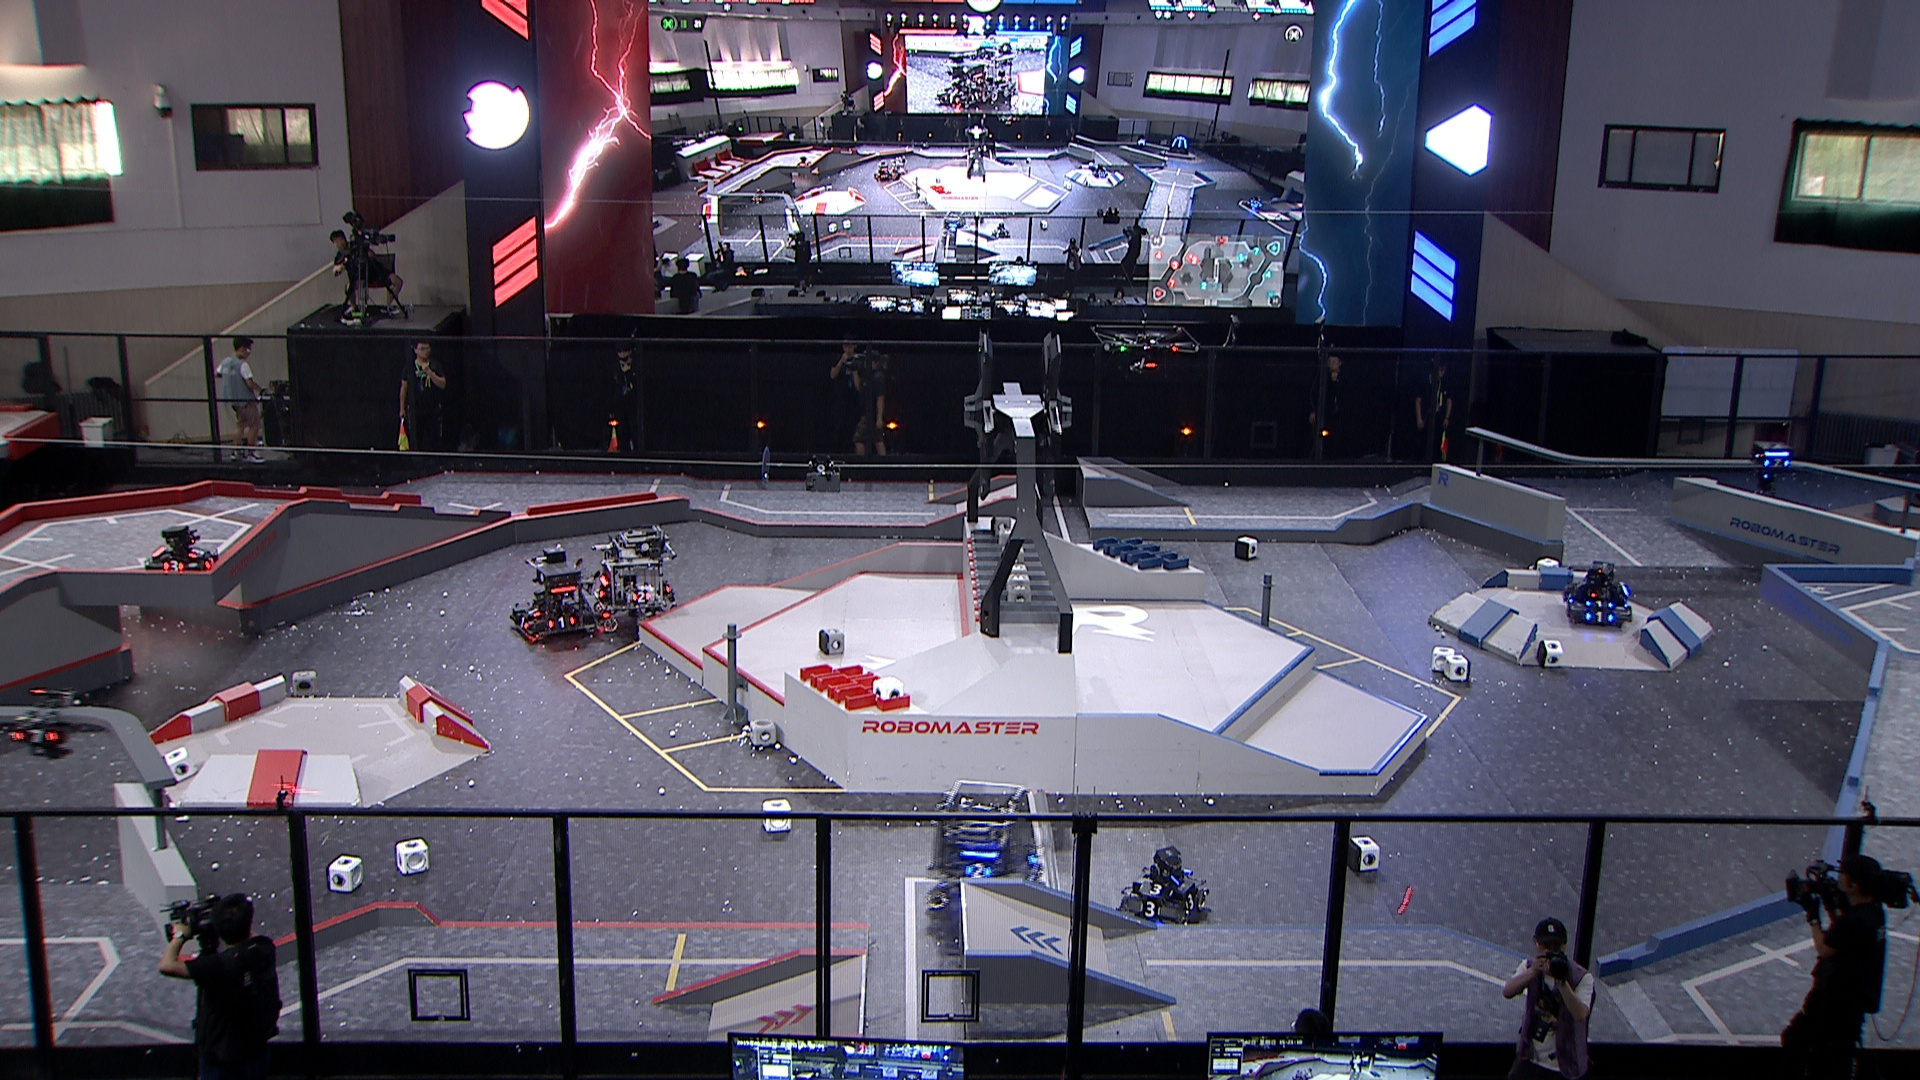armor: (11, 728, 61, 746), (1138, 882, 1176, 899), (1135, 899, 1163, 920), (547, 615, 576, 632), (964, 862, 993, 880), (1585, 609, 1617, 624), (1760, 458, 1792, 471), (1585, 597, 1614, 609), (1183, 891, 1201, 910), (187, 546, 208, 560), (632, 589, 654, 603), (164, 560, 187, 572), (517, 616, 531, 632), (527, 605, 543, 618), (204, 555, 218, 571)
car: (926, 777, 1046, 913), (593, 522, 679, 636), (510, 545, 603, 645), (1114, 847, 1211, 930), (1561, 562, 1633, 632), (144, 524, 220, 582)
ignore: (935, 50, 994, 109), (972, 40, 1015, 102), (874, 158, 901, 183), (942, 214, 968, 237), (1166, 135, 1191, 157), (889, 152, 910, 177), (1244, 193, 1266, 211), (750, 186, 769, 207), (1091, 161, 1110, 179), (992, 223, 1011, 240), (795, 156, 812, 167), (1135, 138, 1149, 152)
watcher: (11, 687, 79, 760), (1750, 442, 1795, 495)
